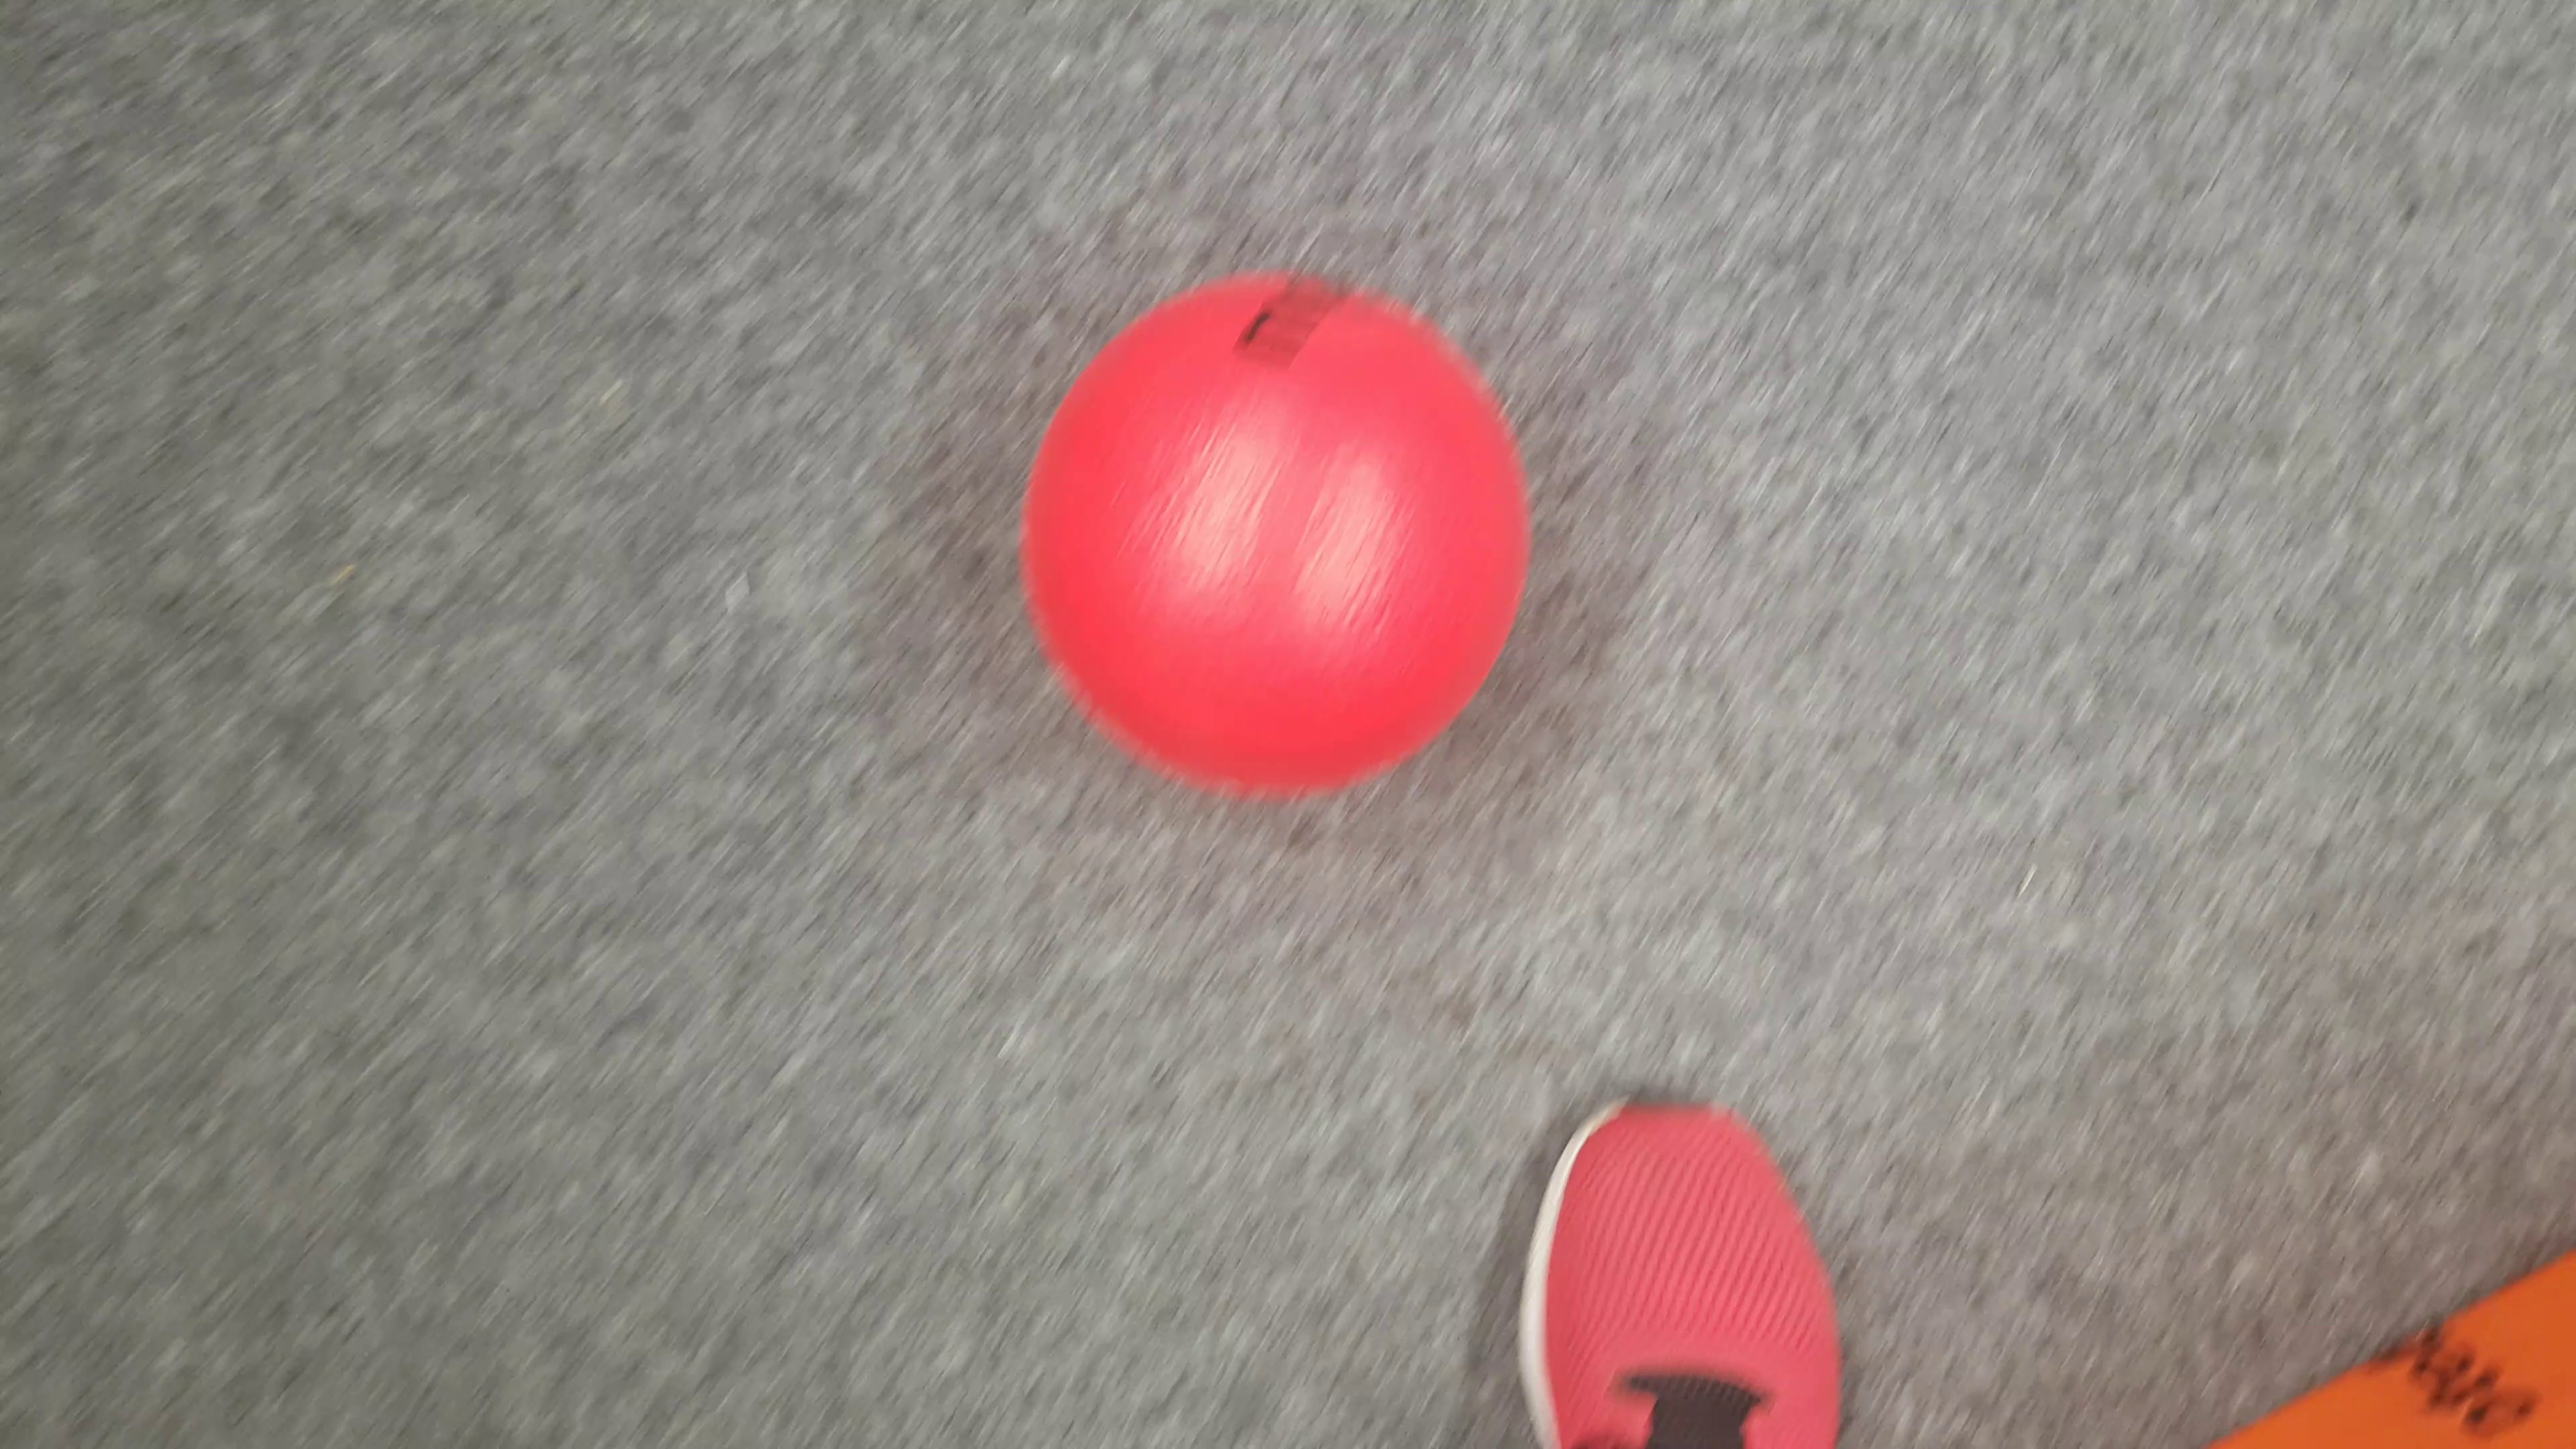kick: (1028, 276, 1532, 794)
